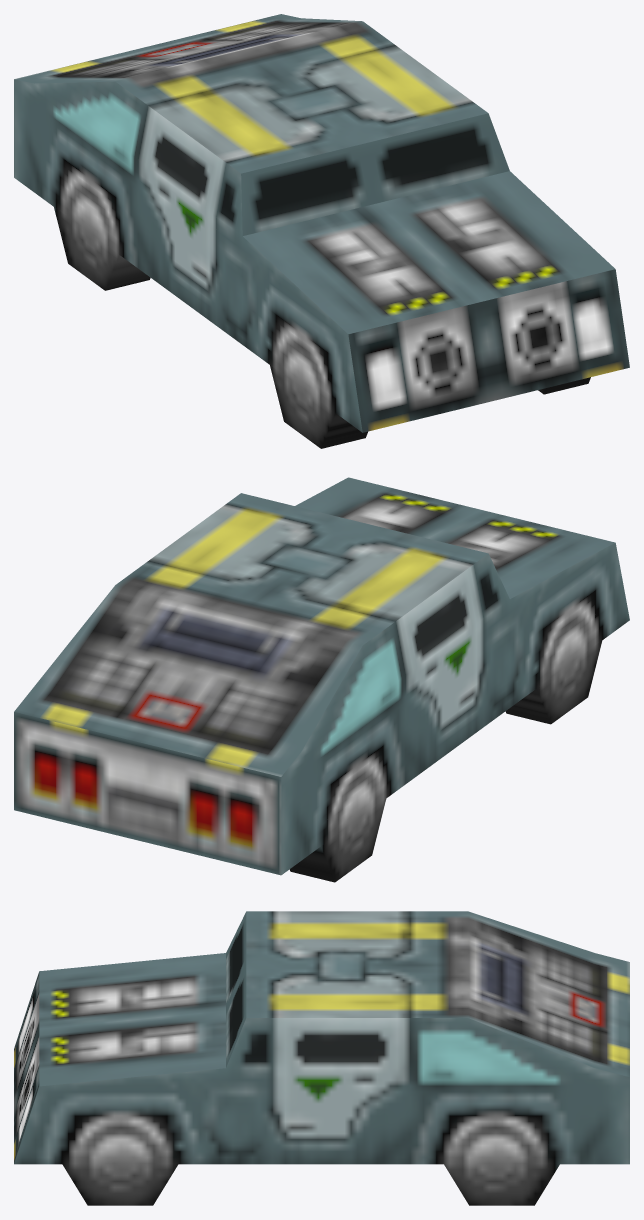
Rendered from armoredcarprop.glb.
3 views of the same model, one above another, from view 1: azimuth 30°, elevation 25°; view 2: azimuth 150°, elevation 25°; view 3: azimuth 270°, elevation 25° (orthographic). The views are drawn at different scales.
Parts seen in each view (by area): view 1: Hummer; view 2: Hummer; view 3: Hummer.
Part boxes in pixels (box(x1,y1,x2,y2)): Hummer: box(14, 14, 629, 448); Hummer: box(14, 477, 629, 882); Hummer: box(14, 911, 629, 1205).
Size of the model in its own units: 2.19 by 1.62 by 4.95.
1 material, 1 textured.
